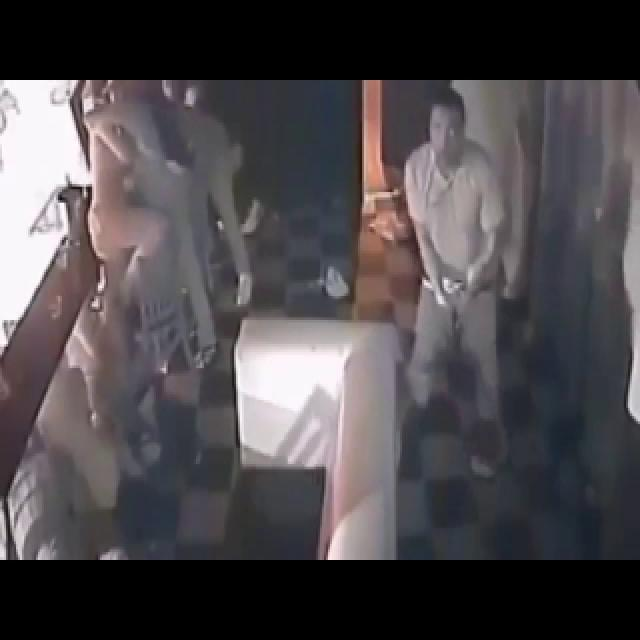shooting: (269, 44, 532, 528)
